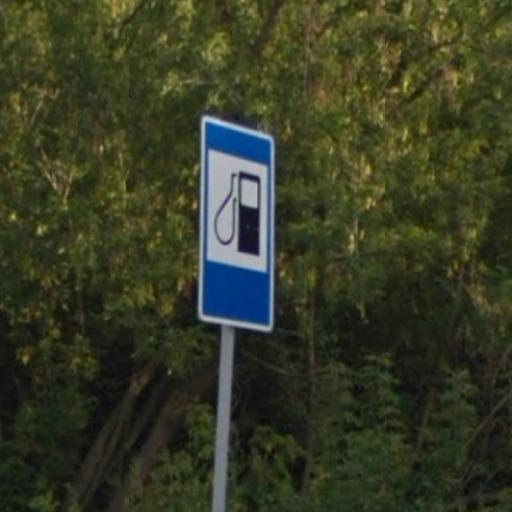traffic_sign: (198, 113, 279, 335)
